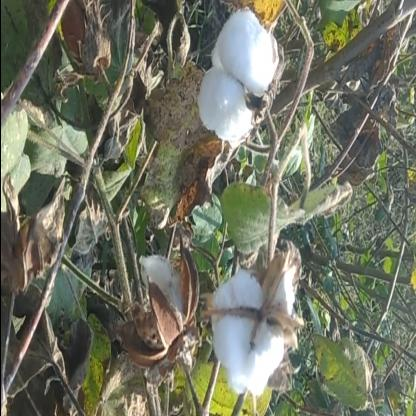cotton_ready: (195, 221, 313, 393), (180, 13, 288, 170)
